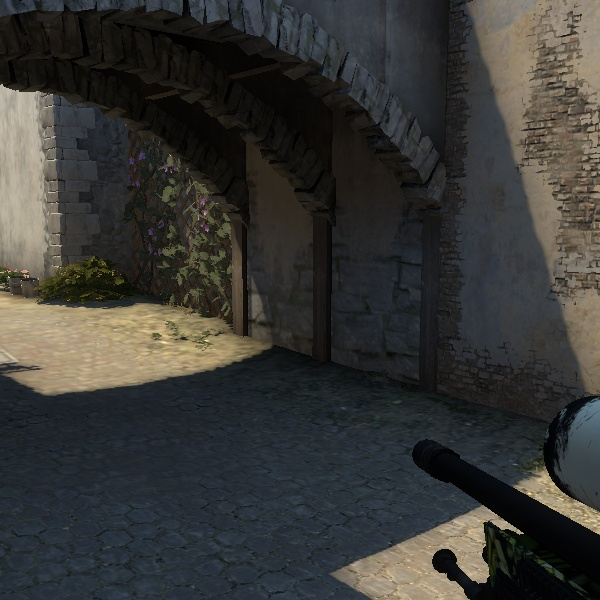ct_body: (160, 173, 236, 326)
